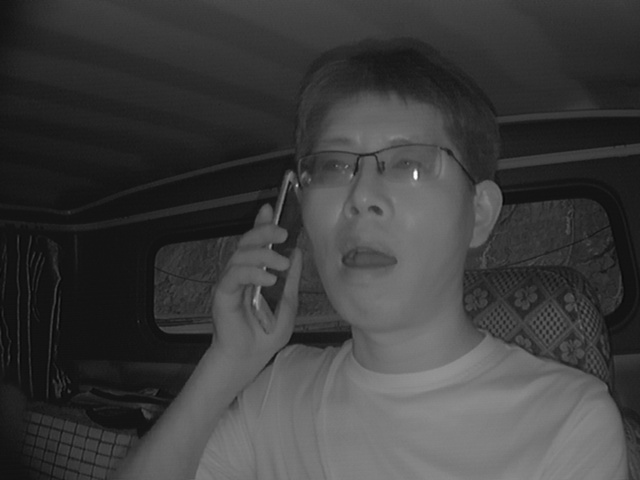hand: (203, 207, 307, 354)
